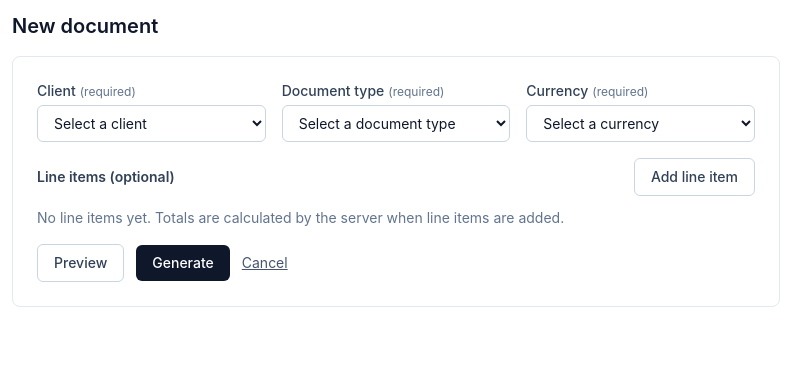
DocumentCreatePage › shows an error and stays on the page when generation fails
Step 1. Select "Acme Ltd" in the dropdown labelled "Client(required)" → (151, 124), box [37,105,266,142]
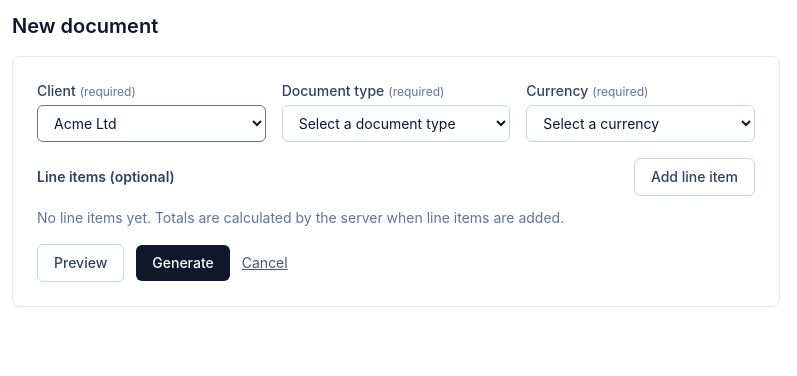
Step 2. Select "Invoice" in the dropdown labelled "Document type(required)" → (396, 124), box [282,105,510,142]
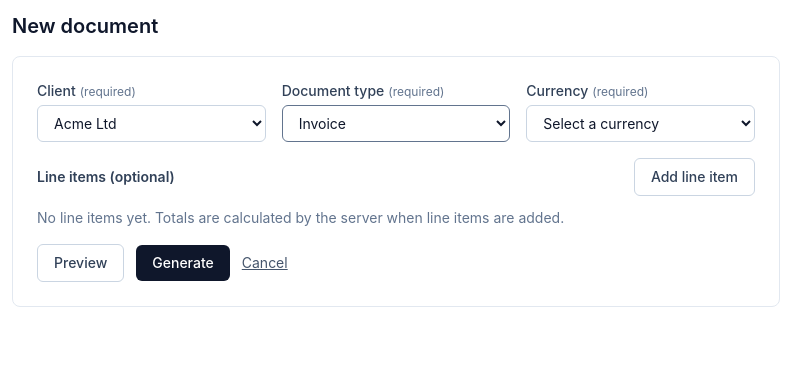
Step 3. Select "AZN" in the dropdown labelled "Currency(required)" → (641, 124), box [526,105,755,142]
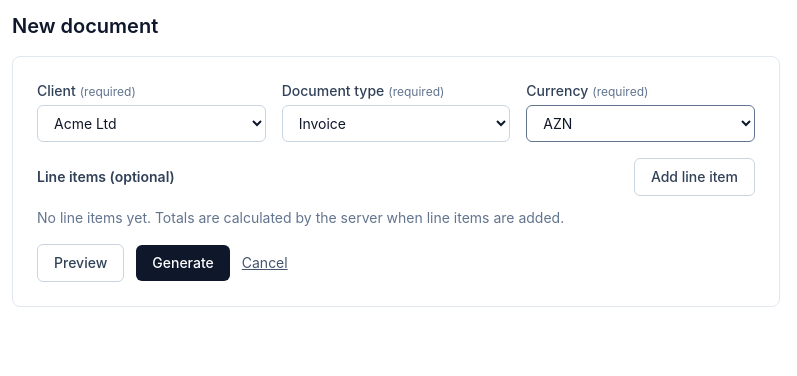
Step 4. Click the button "Generate" → (183, 263), box [136,245,230,281]
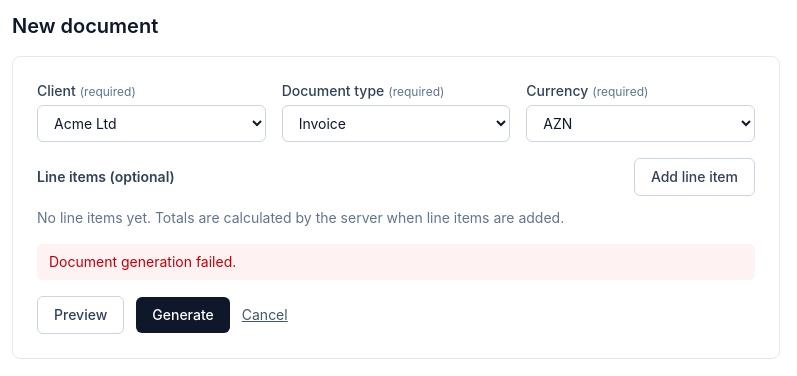
Expected: the message shows "Document generation failed", [49,253,236,270]
